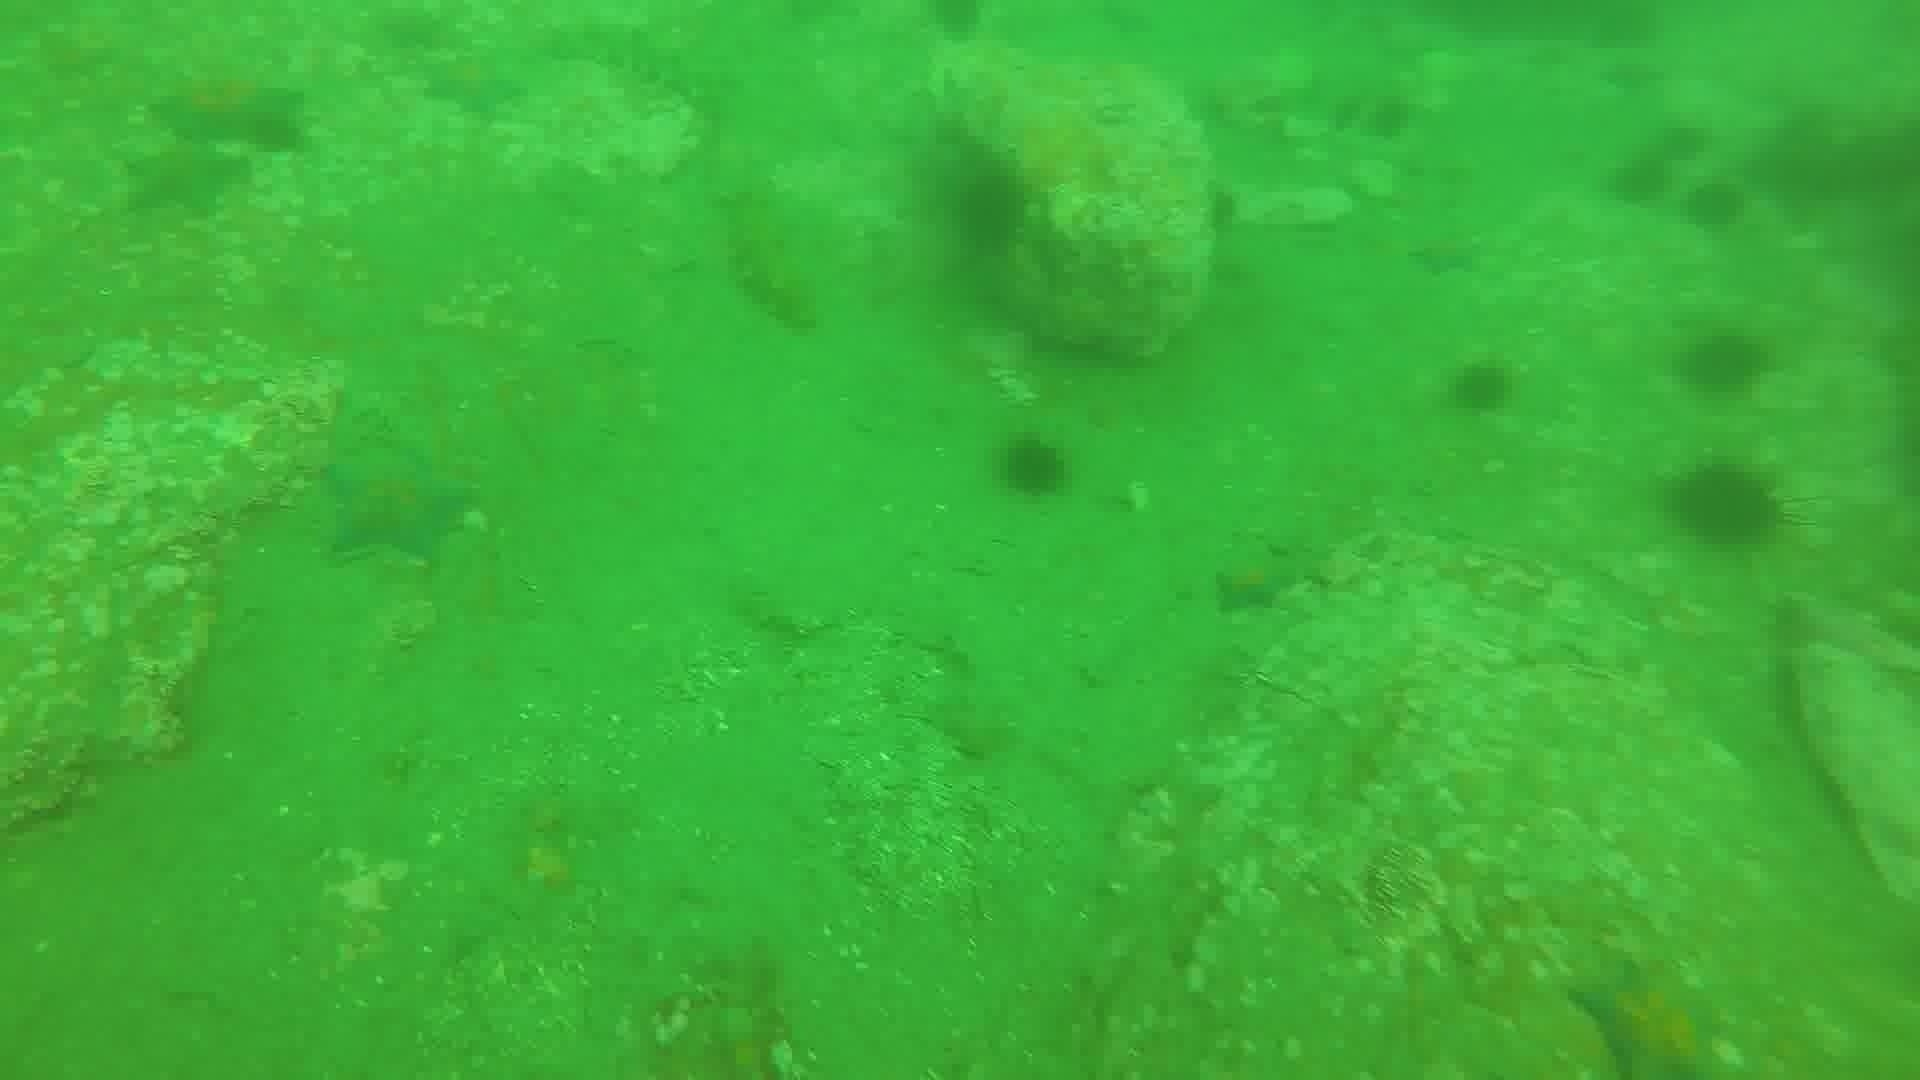echinus: (1665, 458, 1785, 553), (945, 162, 1034, 258), (1673, 326, 1772, 401), (1621, 117, 1712, 193), (992, 431, 1073, 502), (1443, 355, 1519, 419), (1604, 145, 1677, 210), (1679, 175, 1751, 237), (241, 103, 311, 160), (1648, 117, 1713, 170), (919, 1, 992, 47), (1360, 90, 1419, 145), (1317, 78, 1377, 133)
holothurian: (555, 8, 729, 113), (715, 175, 825, 335)
starfish: (316, 436, 477, 568), (1565, 953, 1730, 1080), (148, 65, 309, 156), (117, 137, 249, 222), (415, 47, 530, 121), (1208, 545, 1305, 618), (1404, 227, 1486, 282)
